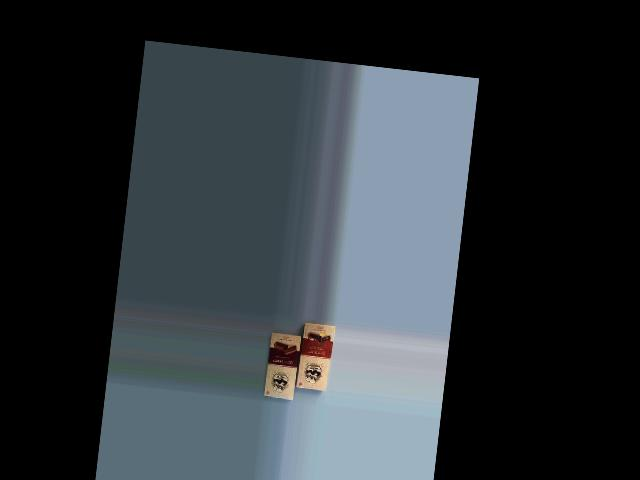chocolate: (289, 320, 336, 394)
